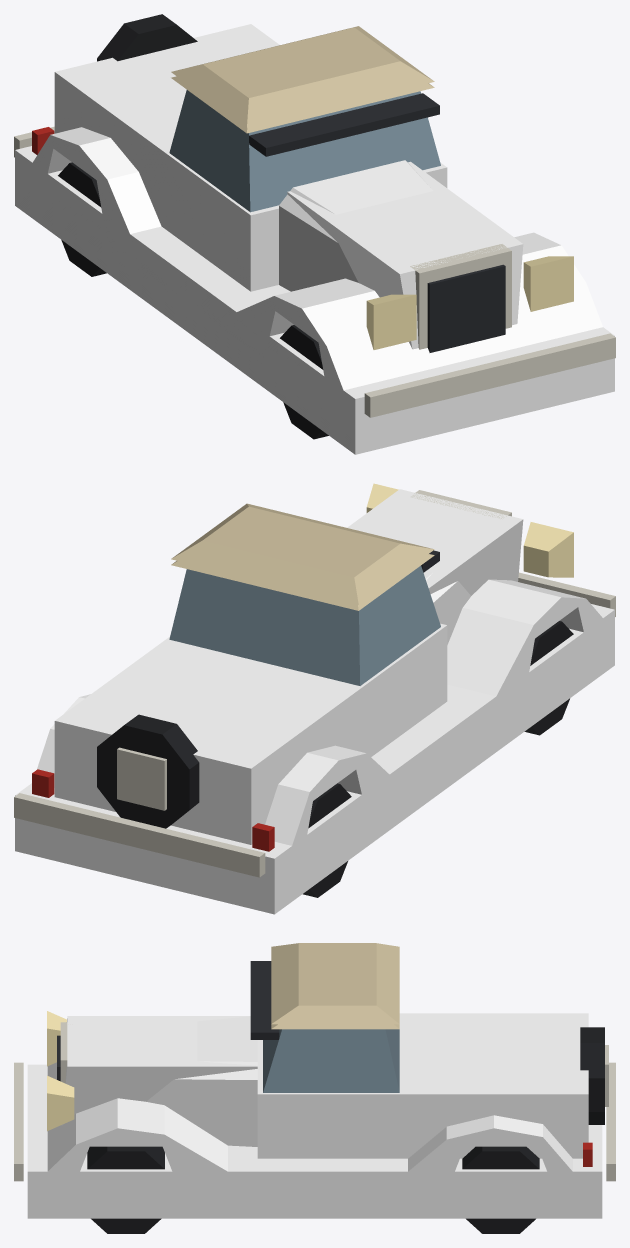
Rendered from car_coupe.glb.
3 views of the same model, one above another, from view 1: azimuth 30°, elevation 25°; view 2: azimuth 150°, elevation 25°; view 3: azimuth 270°, elevation 25° (orthographic). The views are drawn at different scales.
Visible parts, largest first — view 1: far, model; view 2: far, model; view 3: far, model.
Boxes of the visible parts, x1,y1,x2,y2 form: far: (15, 24, 614, 454); model: (14, 14, 615, 439); far: (15, 489, 614, 914); model: (14, 483, 615, 897); far: (27, 943, 602, 1218); model: (14, 961, 615, 1233).
Size of the model in its own units: 1.85 by 1.68 by 4.4.
